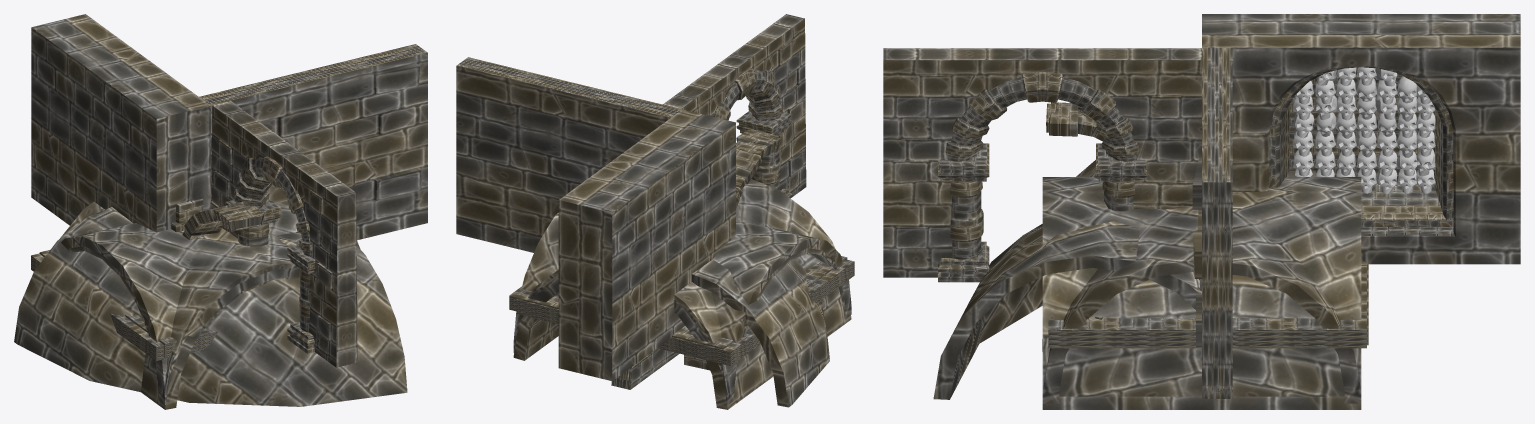
Rendered from Kit_bash.fbx.
The picture shows the model from 3 angles, left to right: view 1: azimuth 30°, elevation 25°; view 2: azimuth 150°, elevation 25°; view 3: azimuth 270°, elevation 25°; orthographic projection. The views are drawn at different scales.
Visible parts, largest first — view 1: corner_roof, Cube.024, Cube.006, Cube.023, X_Roof, Cube.028, X_Roof1, Roof.003, Cube.001, Cube.011, Cube.022; view 2: Cube.024, Cube.006, X_Roof, Cube.023, corner_roof, Roof.003, Cube.001, Cube.028, Cube.011, X_Roof1, Cube.010; view 3: Cube.024, Cube.023, X_Roof, X_Roof1, corner_roof, Cube.006, Cube.011, Roof.003, Cube.028.
Part boxes in pixels (<box>): corner_roof: <box>14,207,407,406</box>; Cube.024: <box>31,14,210,232</box>; Cube.006: <box>199,44,427,240</box>; Cube.023: <box>210,101,357,367</box>; X_Roof: <box>60,201,360,404</box>; Cube.028: <box>182,201,264,239</box>; X_Roof1: <box>68,246,299,393</box>; Roof.003: <box>141,276,299,409</box>; Cube.001: <box>31,253,203,361</box>; Cube.011: <box>39,249,218,357</box>; Cube.022: <box>171,199,203,232</box>; Cube.024: <box>558,109,735,381</box>; Cube.006: <box>456,57,681,252</box>; X_Roof: <box>513,179,851,404</box>; Cube.023: <box>663,14,806,198</box>; corner_roof: <box>692,259,829,407</box>; Roof.003: <box>513,253,851,409</box>; Cube.001: <box>516,259,854,365</box>; Cube.028: <box>736,129,780,208</box>; Cube.011: <box>509,256,847,349</box>; X_Roof1: <box>514,248,844,399</box>; Cube.010: <box>611,348,679,389</box>; Cube.024: <box>1202,14,1520,264</box>; Cube.023: <box>883,48,1201,282</box>; X_Roof: <box>1042,160,1361,403</box>; X_Roof1: <box>1059,275,1344,396</box>; corner_roof: <box>933,170,1315,399</box>; Cube.006: <box>1192,47,1232,398</box>; Cube.011: <box>1048,261,1366,348</box>; Roof.003: <box>1042,396,1361,409</box>; Cube.028: <box>1046,102,1103,141</box>.
Bounding box in the file's own units: 680 × 450 × 800.
